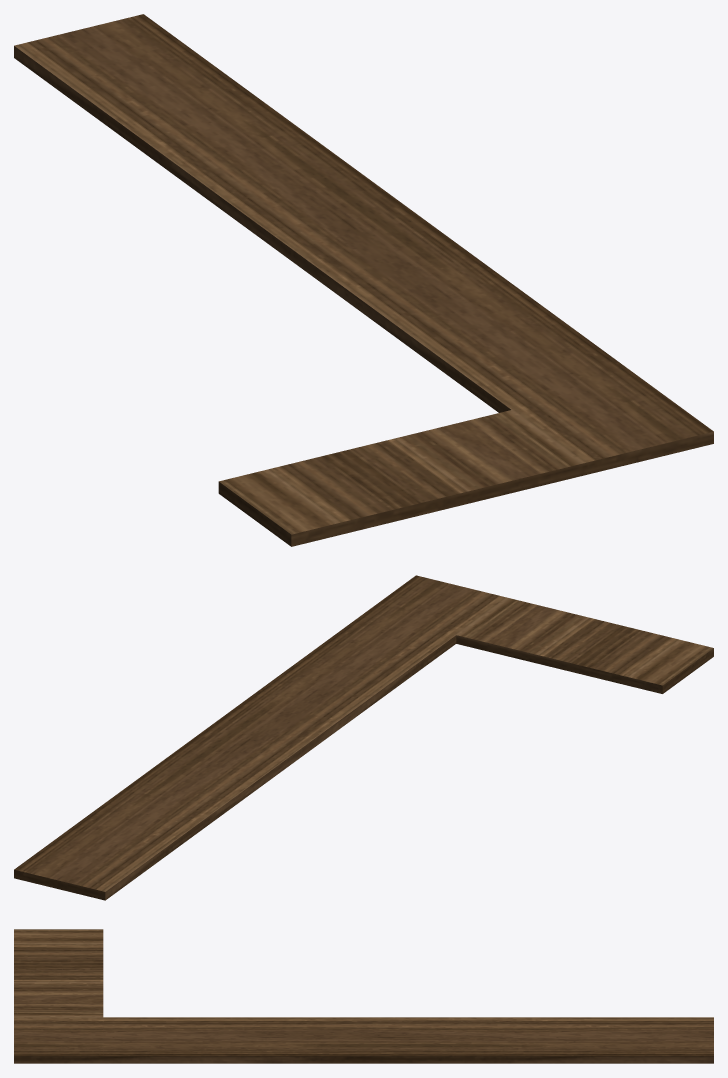
Rendered from BarTop.fbx.
3 renders of one model, top to bottom at view 1: azimuth 30°, elevation 25°; view 2: azimuth 150°, elevation 25°; view 3: azimuth 270°, elevation 25°, orthographic. The views are drawn at different scales.
Parts seen in each view (by area): view 1: Plane.001; view 2: Plane.001; view 3: Plane.001.
Part boxes in pixels (x1,y1,x2,y2): Plane.001: (14, 14, 713, 546); Plane.001: (14, 575, 713, 900); Plane.001: (14, 929, 713, 1063).
Bounding box in the file's own units: 173 × 4.8 × 405.
